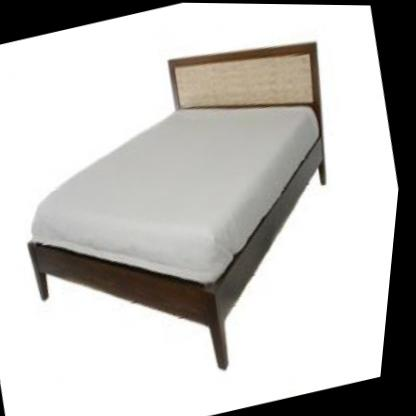Bed: (0, 21, 393, 410)
